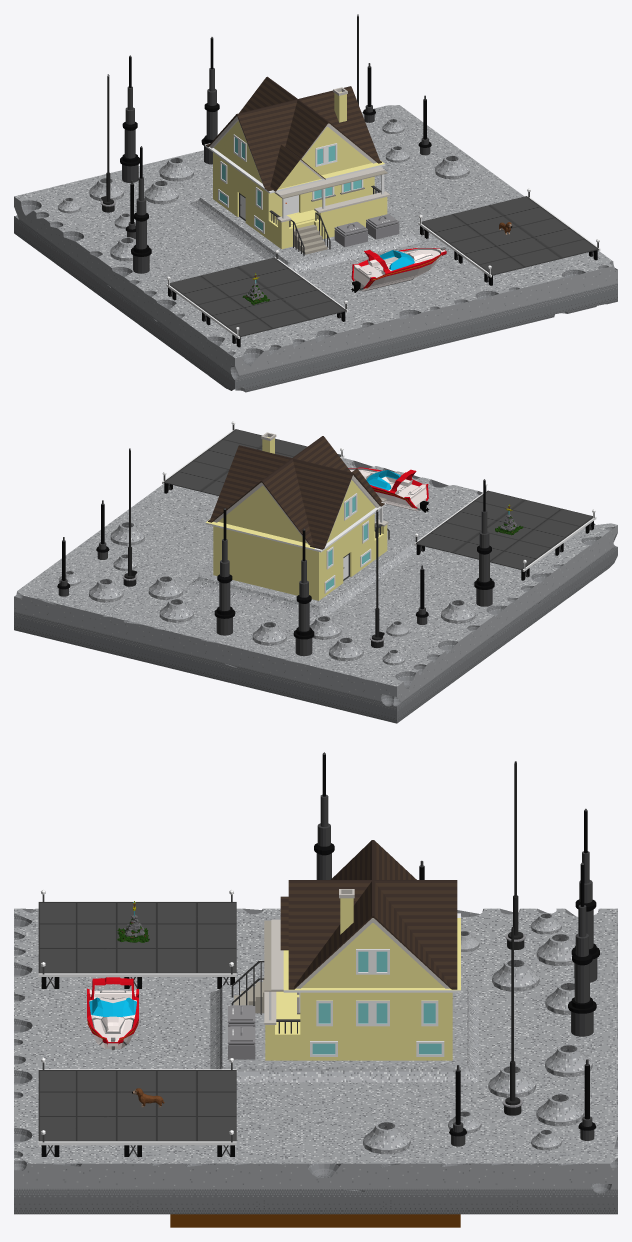
3 renders of one model, top to bottom at view 1: azimuth 30°, elevation 25°; view 2: azimuth 150°, elevation 25°; view 3: azimuth 270°, elevation 25°, orthographic. The views are drawn at different scales.
Parts seen in each view (by area): view 1: Cube.027, Cube.1555, Cube.026, Cube.025, Cube.028, VEHICLES_BOAT, Cylinder.020, Cylinder.021, Cylinder.017, Cube.029, Cube.030, Cylinder.033 (+4 smaller); view 2: Cube.027, Cube.1555, Cube.025, Cube.028, Cube.026, VEHICLES_BOAT, Cylinder.020, Cylinder.017, Cylinder.021, Cylinder.030, Cylinder.025, Cylinder.027 (+7 smaller); view 3: Cube.027, Cube.1555, Cube.026, Cube.025, Cube.028, UNDERGROUND_ART_PIECE_VAN_GOGH, VEHICLES_BOAT, Cylinder.017, Cylinder.020, Cylinder.021, Cylinder.033, Cylinder.031 (+10 smaller).
Boxes of the visible parts, box(x1,y1,x2,y2) form: Cube.027: box(14, 105, 617, 392); Cube.1555: box(204, 76, 389, 255); Cube.026: box(418, 188, 600, 285); Cube.025: box(166, 250, 348, 347); Cube.028: box(190, 194, 422, 272); VEHICLES_BOAT: box(351, 247, 446, 292); Cylinder.020: box(120, 55, 139, 182); Cylinder.021: box(131, 146, 151, 273); Cylinder.017: box(201, 37, 219, 164); Cube.029: box(334, 221, 367, 247); Cube.030: box(366, 214, 399, 239); Cylinder.033: box(435, 155, 469, 179); Cube.027: box(14, 458, 617, 723); Cube.1555: box(205, 432, 389, 600); Cube.025: box(414, 483, 596, 580); Cube.028: box(188, 535, 416, 617); Cube.026: box(162, 421, 344, 495); VEHICLES_BOAT: box(348, 467, 429, 512); Cylinder.020: box(293, 528, 314, 656); Cylinder.017: box(214, 508, 235, 635); Cylinder.021: box(474, 479, 494, 606); Cylinder.030: box(148, 575, 183, 599); Cylinder.025: box(441, 599, 475, 623); Cylinder.027: box(252, 621, 286, 645); Cube.027: box(14, 908, 617, 1214); Cube.1555: box(231, 840, 460, 1060); Cube.026: box(38, 1058, 236, 1156); Cube.025: box(38, 889, 236, 988); Cube.028: box(210, 985, 478, 1082); UNDERGROUND_ART_PIECE_VAN_GOGH: box(170, 1214, 460, 1227); VEHICLES_BOAT: box(87, 977, 138, 1050); Cylinder.017: box(568, 862, 596, 1036); Cylinder.020: box(571, 808, 599, 982); Cylinder.021: box(314, 752, 334, 879); Cylinder.033: box(363, 1121, 410, 1154); Cylinder.031: box(536, 1093, 583, 1126).
Size of the model in its own units: 4000 by 1925 by 4000.
Materials: 39 (5 with a texture image).
